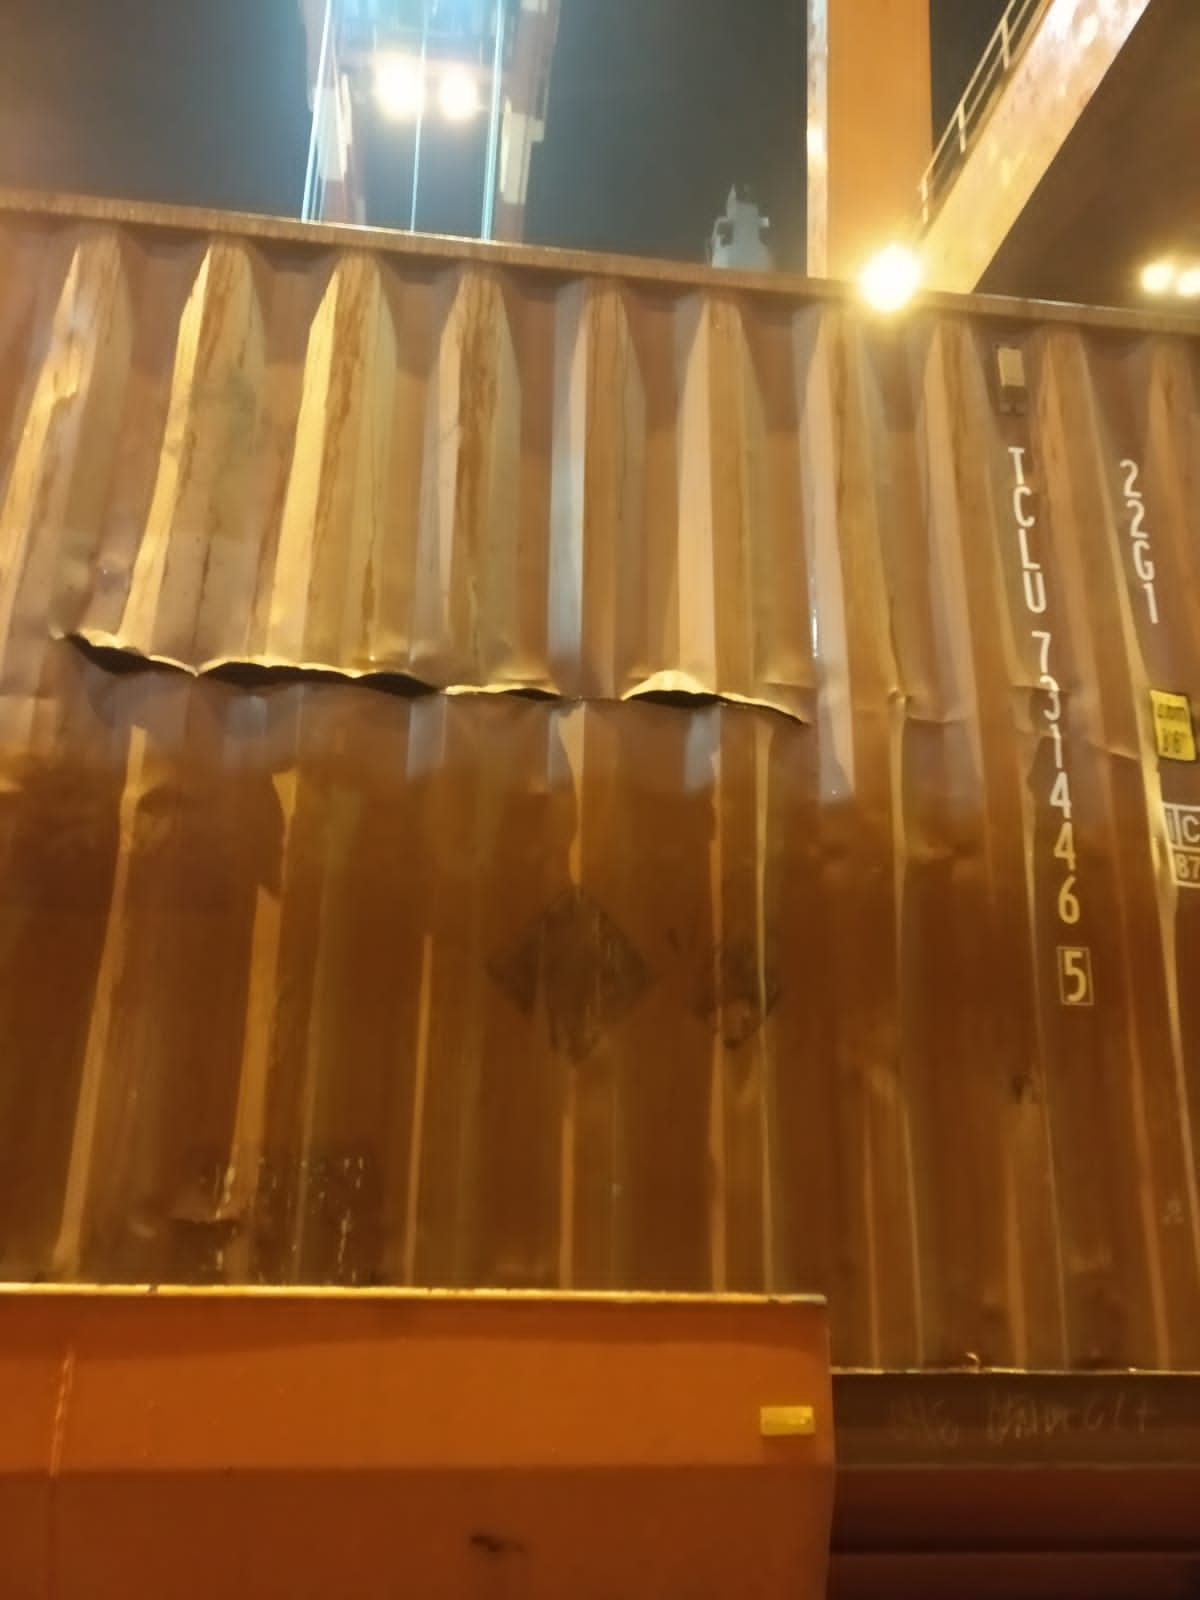right_side: (4, 185, 1200, 1380)
